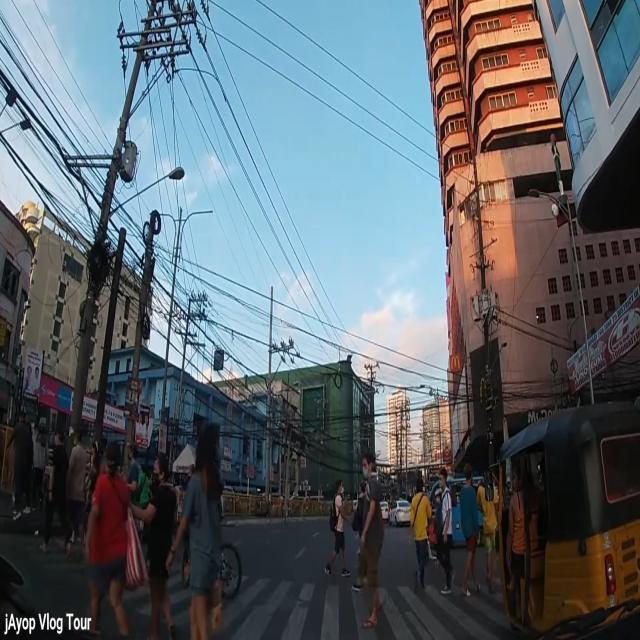car: (389, 498, 411, 526)
tricycle: (496, 399, 640, 639)
